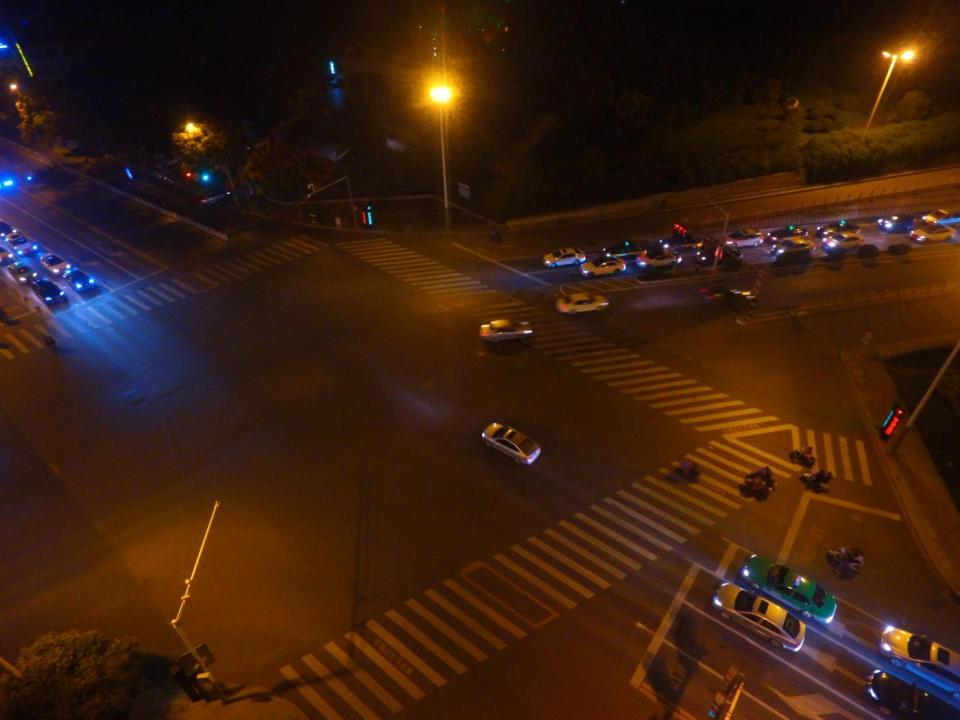car: (738, 553, 834, 623), (714, 581, 808, 652), (876, 622, 957, 697), (865, 668, 951, 720), (481, 424, 541, 468), (555, 290, 609, 315), (478, 319, 531, 343), (578, 256, 625, 278), (698, 280, 737, 306), (542, 247, 588, 269), (696, 245, 739, 267), (770, 236, 813, 258), (816, 219, 860, 240), (909, 224, 955, 244), (31, 279, 66, 305), (62, 267, 96, 293), (659, 233, 701, 254), (722, 228, 762, 250), (636, 250, 678, 270), (766, 225, 808, 245), (158, 143, 193, 167), (877, 211, 915, 233), (3, 233, 37, 257), (600, 241, 640, 260), (6, 262, 36, 285), (822, 233, 862, 250), (195, 185, 229, 205), (39, 254, 69, 274)
van: (925, 208, 960, 230)
